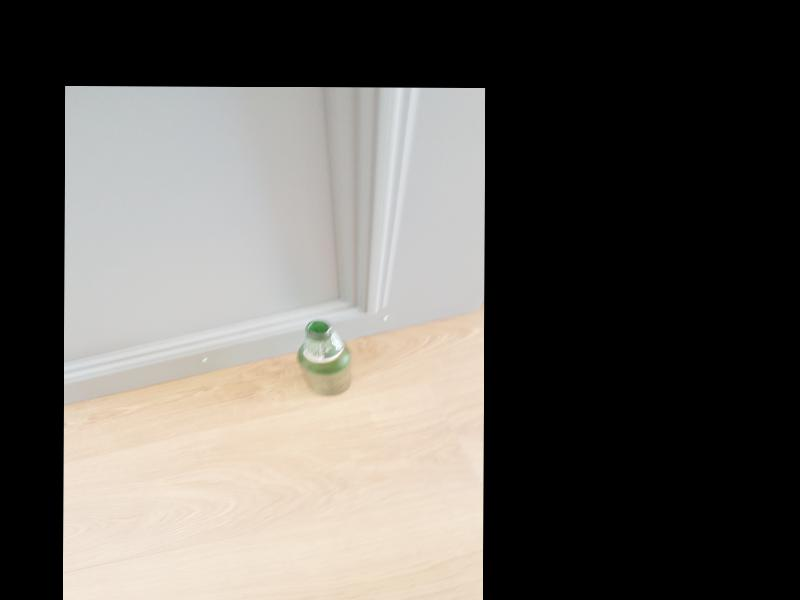Beer: (297, 320, 350, 395)
